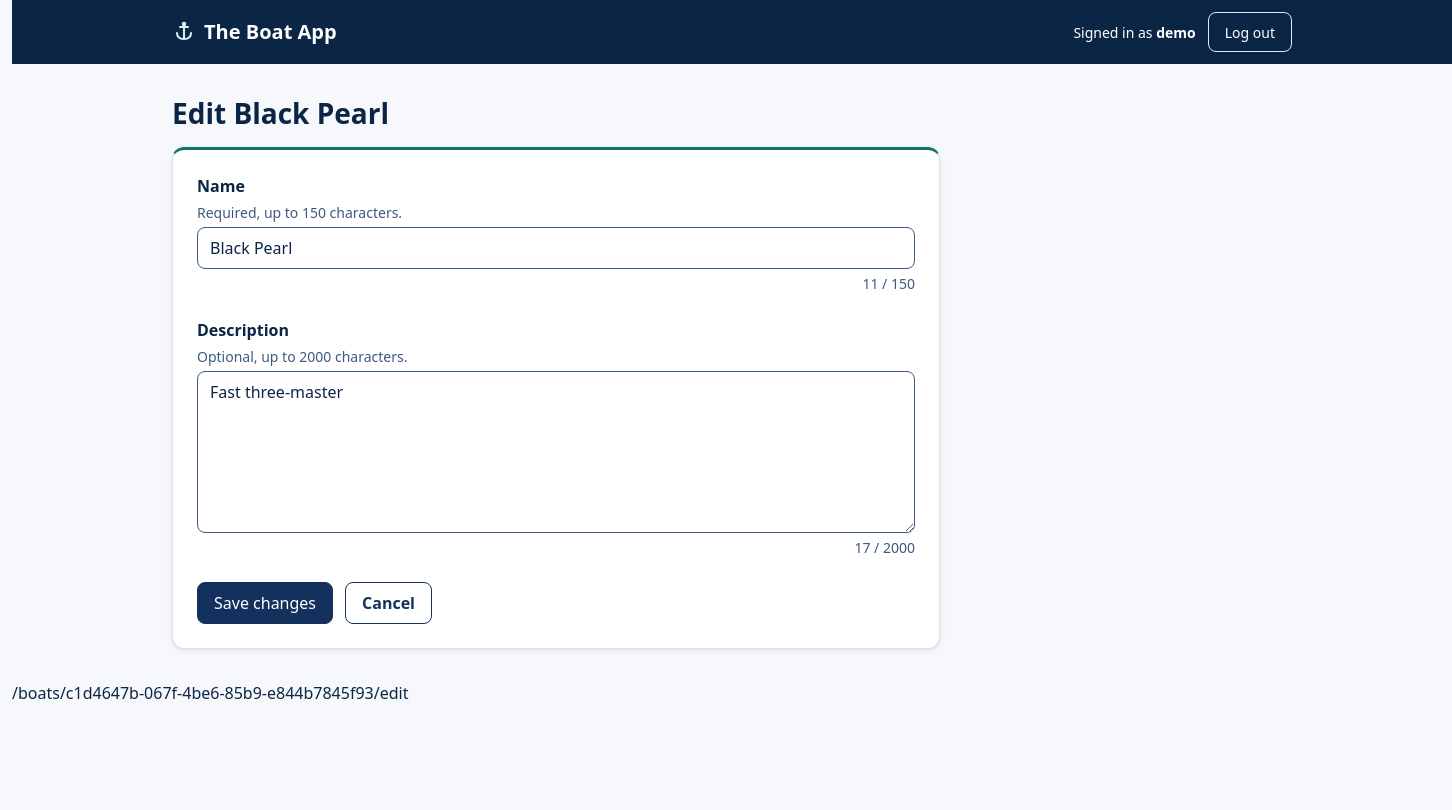
EditBoatPage › updates the user-scoped detail cache and marks fleet pages stale
This screenshot has width=1452, height=810.
Replace the text in the field labelled "Name" with "Pearl II". click: (556, 248)
box: [197,227,915,269]
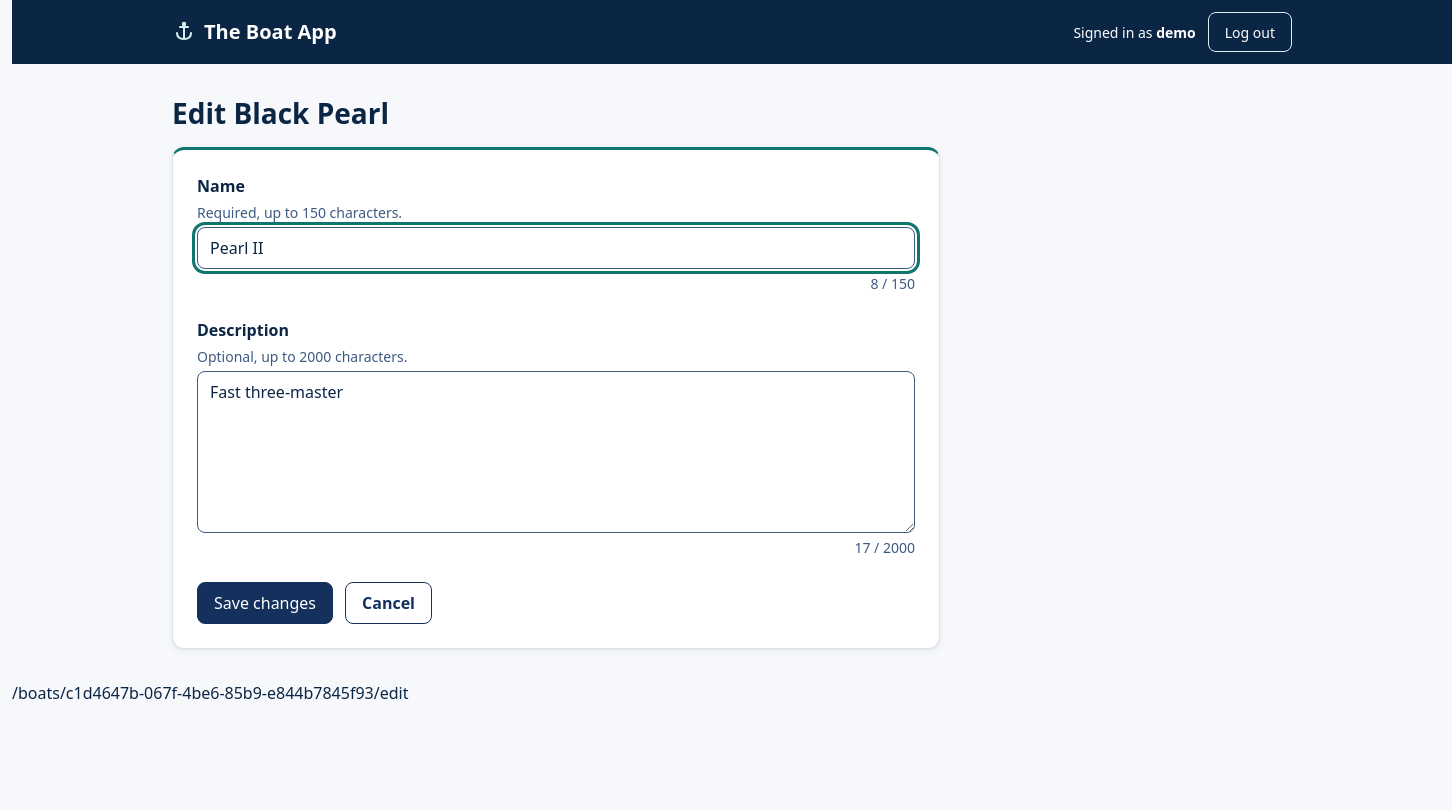
Click the button "Save changes". click: (265, 603)
box: [197,582,333,624]
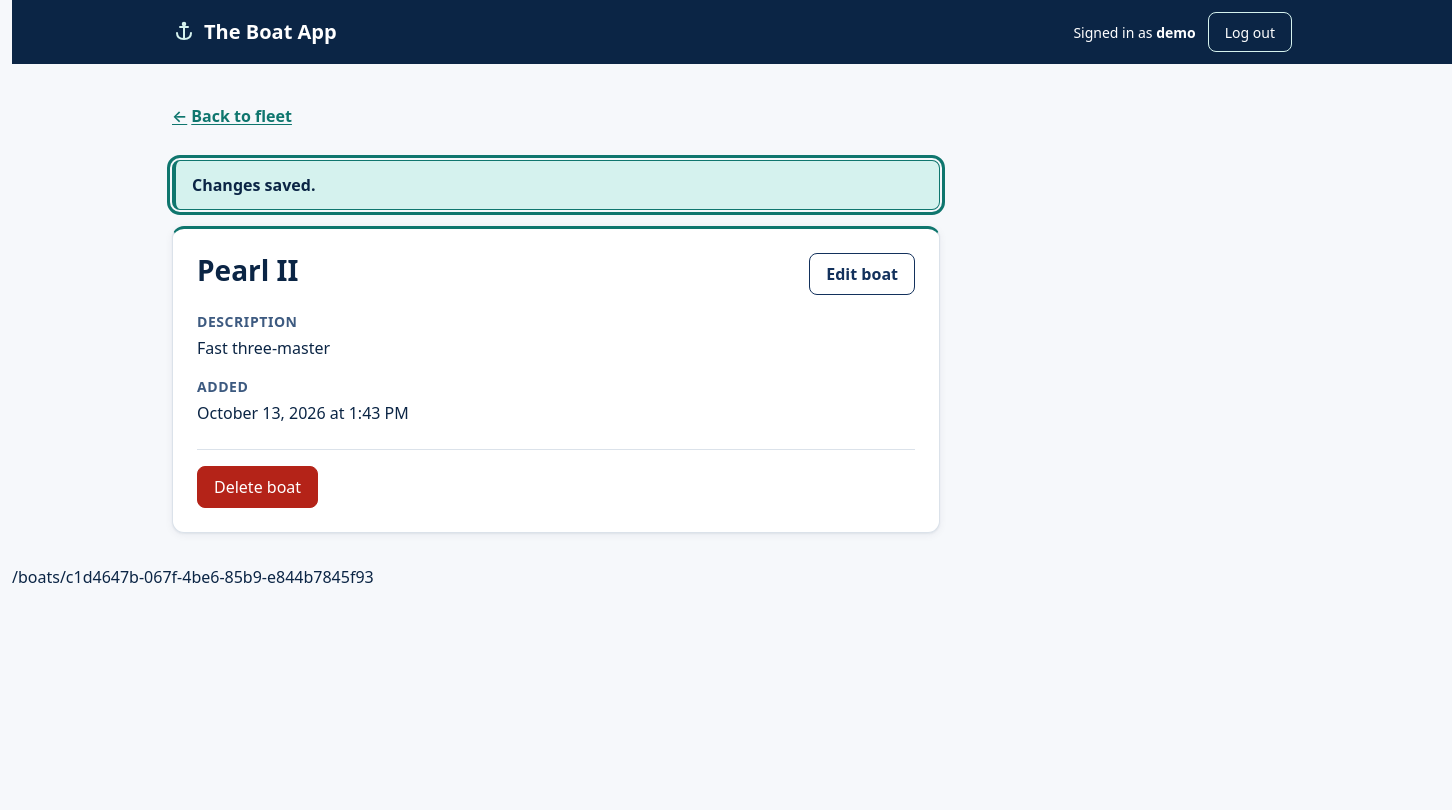
Expected: the text "Changes saved." is shown, [172,160,940,210]
